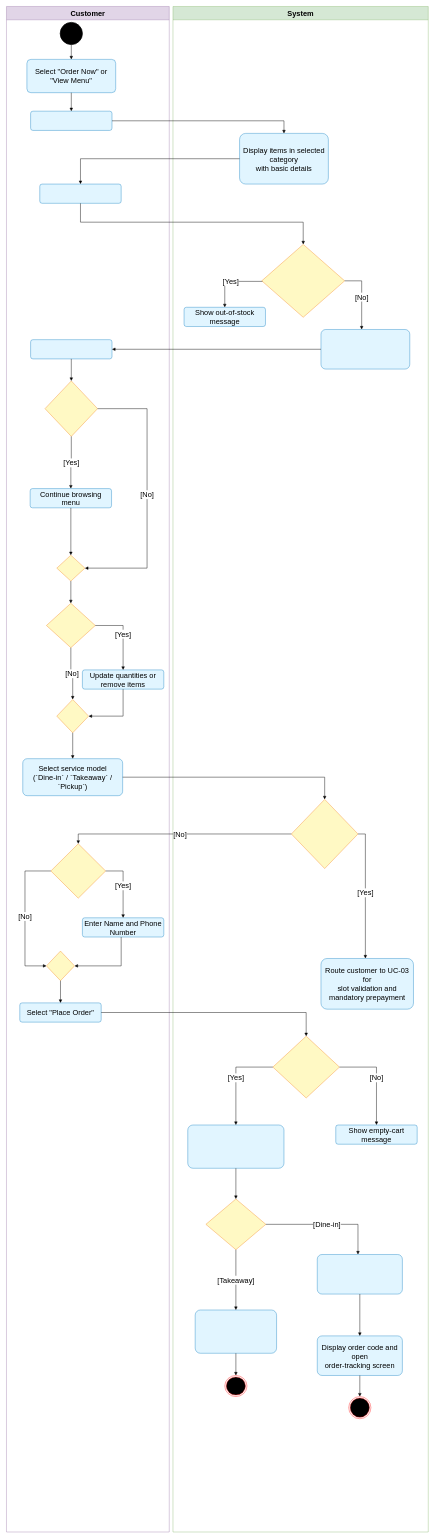
Some shapes in this 435 by 1538 pixel diagram are drawn without their labels. Here are the shapes that lost their labels. From the top down, the centre of each, then its label:
At point 71,120: "Select a menu category".
At point 80,193: "Select an item".
At point 71,349: "Add selected item to cart".
At point 365,349: "Display item details, quantity, toppings, and notes".
At point 235,1146: "Create order according to selected service model".
At point 359,1274: "Create order with payment_status = Unpaid".
At point 236,1331: "Route customer to mandatory payment before kitchen release".
